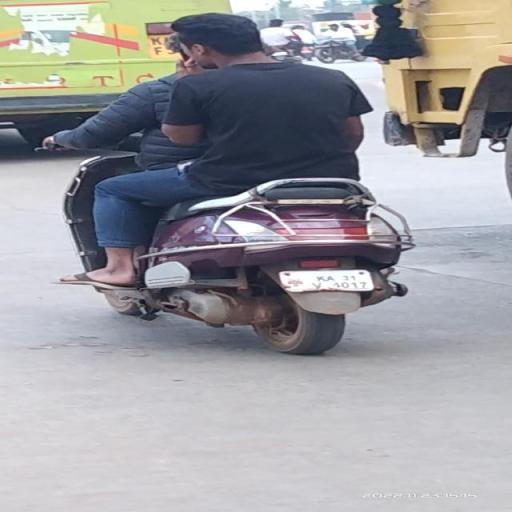bike: (36, 9, 424, 360)
numberplate: (282, 270, 375, 292)
withouthelmet: (176, 14, 255, 62)
